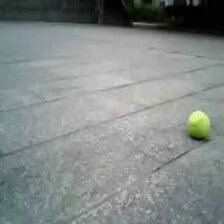tennis: (188, 112, 209, 138)
